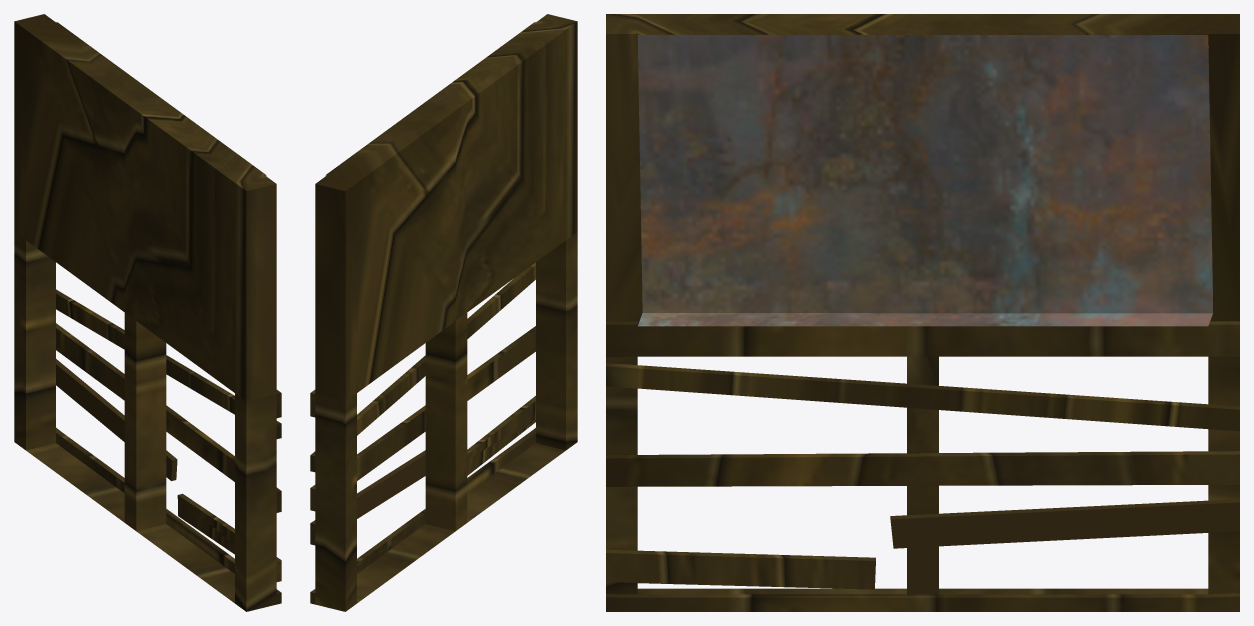
File: wall_v3.fbx
3 renders of one model, left to right at view 1: azimuth 30°, elevation 25°; view 2: azimuth 150°, elevation 25°; view 3: azimuth 270°, elevation 25°, orthographic. The views are drawn at different scales.
Visible parts, largest first — view 1: Plane; view 2: Plane; view 3: Plane.
Boxes of the visible parts, <box> form: Plane: <box>14,14,281,611</box>; Plane: <box>310,14,577,611</box>; Plane: <box>606,14,1239,611</box>.
Size of the model in its own units: 18.8 by 200 by 200.
